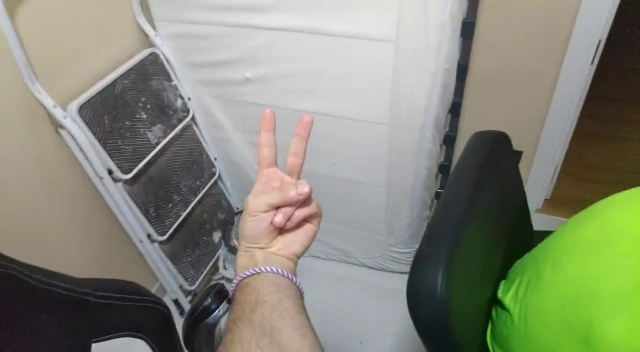Peace: (238, 108, 326, 257)
